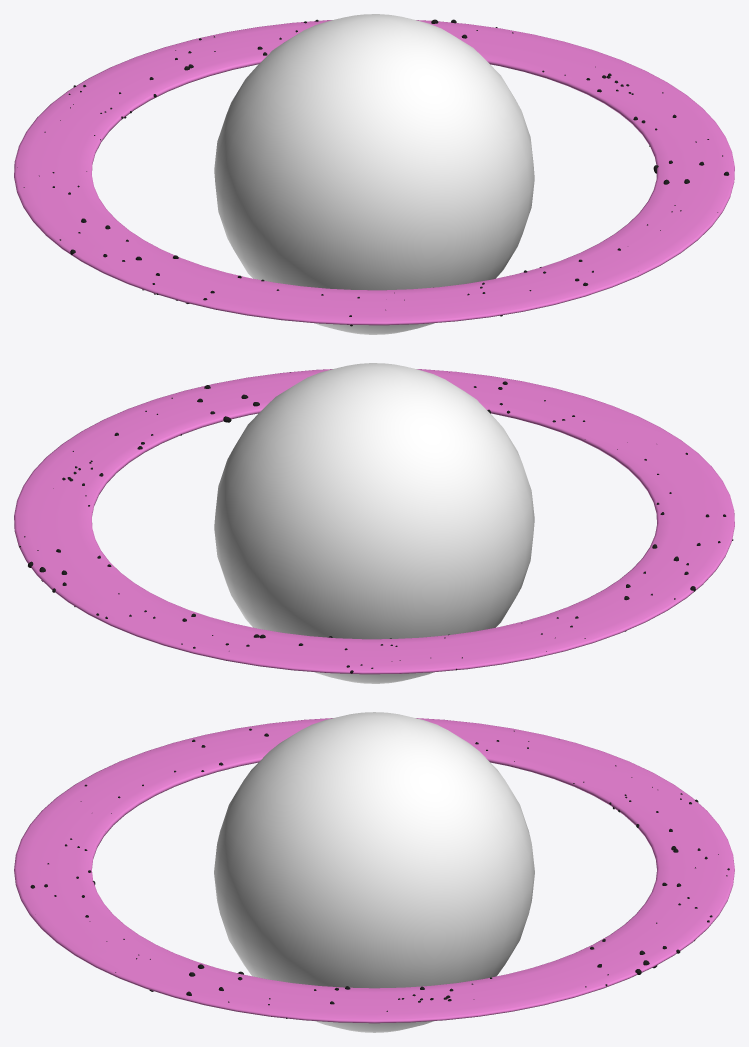
The model's file is saturn.glb.
3 renders of one model, top to bottom at view 1: azimuth 30°, elevation 25°; view 2: azimuth 150°, elevation 25°; view 3: azimuth 270°, elevation 25°, orthographic.
Parts seen in each view (by area): view 1: Sphere, Circle; view 2: Sphere, Circle; view 3: Sphere, Circle.
Boxes of the visible parts, x1=… form: Sphere: x1=214, y1=14, x2=534, y2=334; Circle: x1=14, y1=19, x2=734, y2=326; Sphere: x1=214, y1=363, x2=534, y2=683; Circle: x1=14, y1=369, x2=734, y2=674; Sphere: x1=214, y1=712, x2=534, y2=1032; Circle: x1=14, y1=718, x2=734, y2=1023.
Size of the model in its own units: 7.27 by 3.24 by 7.27.
